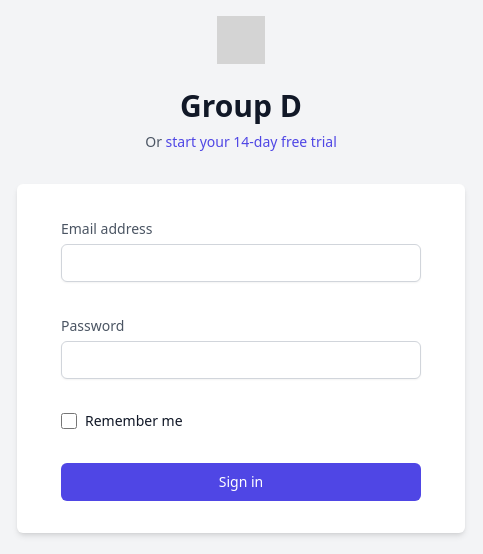
Sign in functionality › invalid input › render email error
Step 1. Type "invalid" into the field labelled "Email address" → (241, 262), box [61, 244, 421, 282]
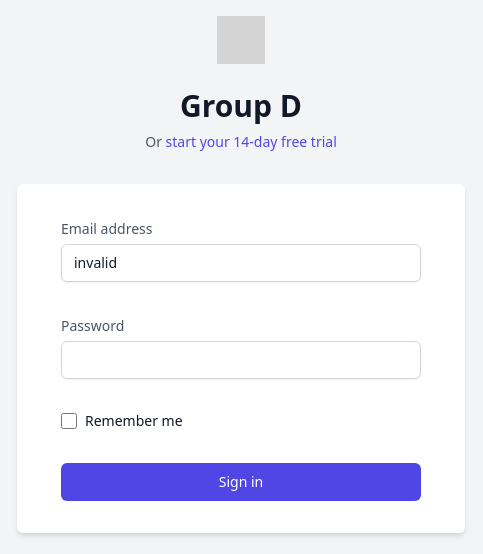
Step 2. Click the button "Sign in" → (241, 482), box [61, 462, 421, 500]
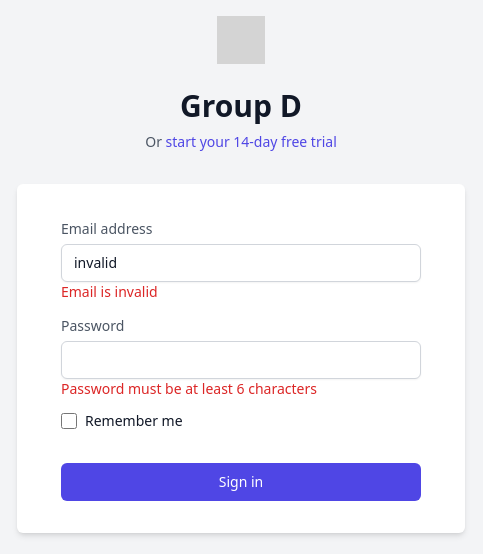
Expected: the text "Email is invalid" is shown, [61, 282, 158, 302]
